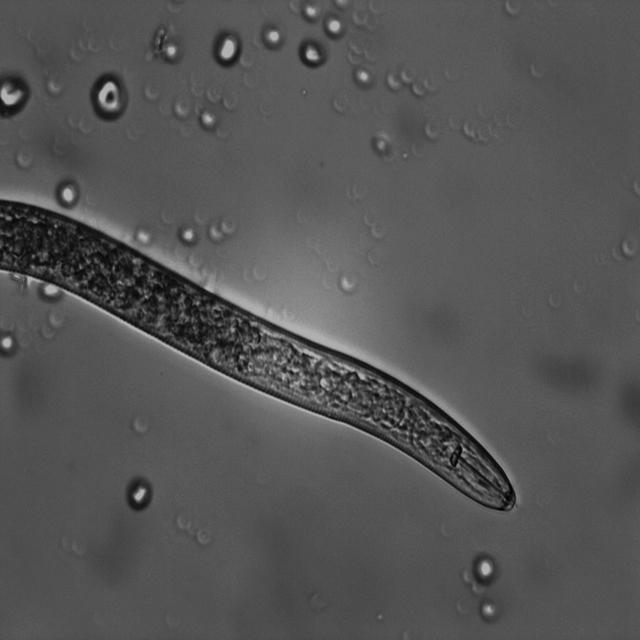Helicotylenchus: (0, 190, 523, 523)
